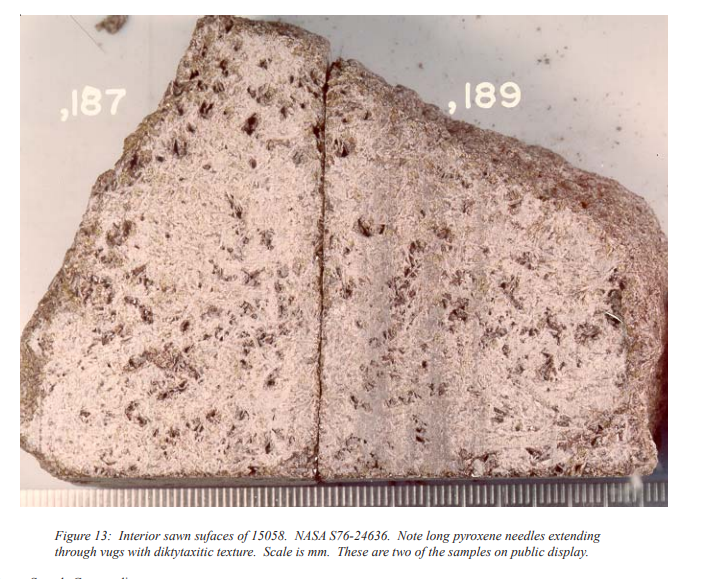Basalt: (143, 33, 637, 471), (45, 144, 642, 468)
